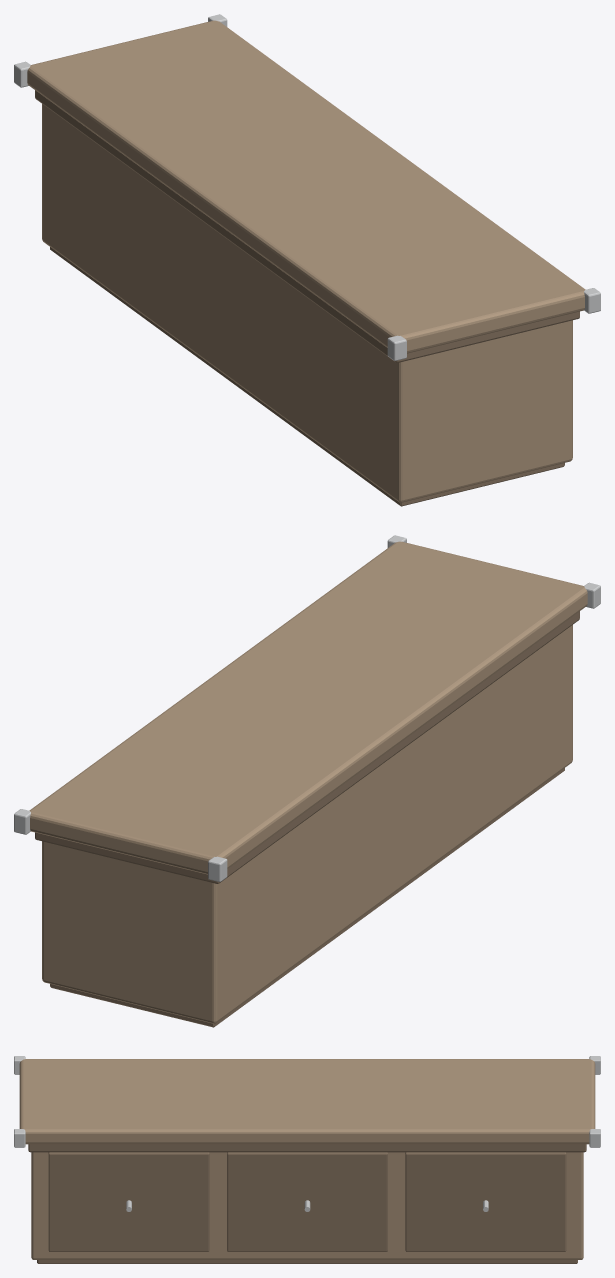
Rendered from counter_01.glb.
The picture shows the model from 3 angles, top to bottom: view 1: azimuth 30°, elevation 25°; view 2: azimuth 150°, elevation 25°; view 3: azimuth 270°, elevation 25°; orthographic projection. The views are drawn at different scales.
Parts seen in each view (by area): view 1: counter_01; view 2: counter_01; view 3: counter_01.
Part boxes in pixels (box(x1,y1,x2,y2)): counter_01: box(14, 14, 600, 506); counter_01: box(14, 535, 600, 1027); counter_01: box(14, 1056, 600, 1263).
Size of the model in its own units: 0.66 by 0.533 by 2.04.
